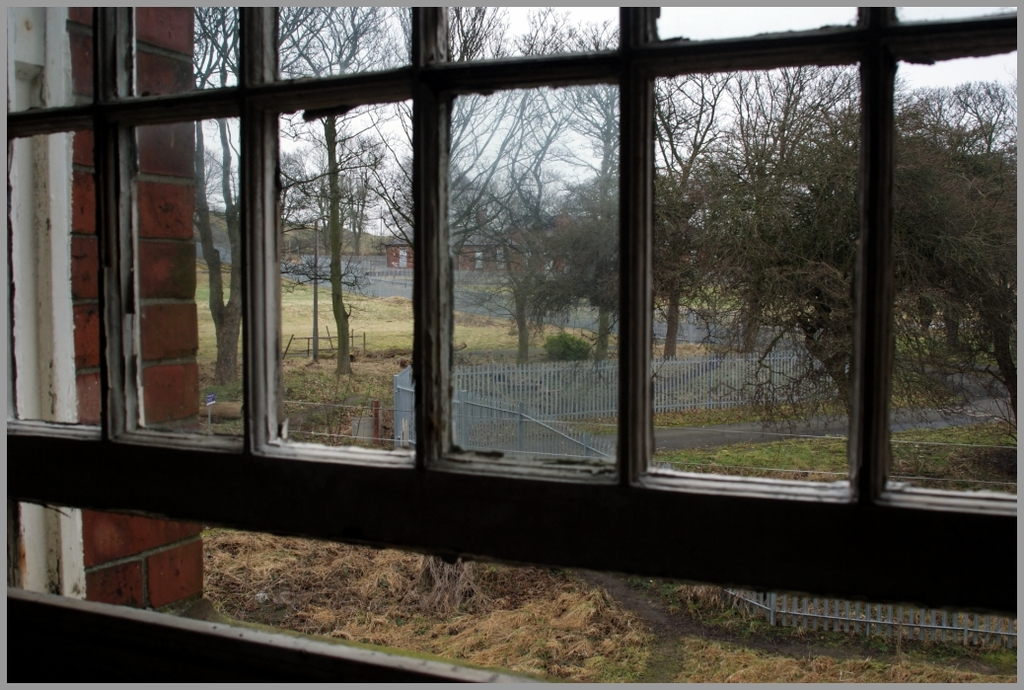Tree: (192, 5, 1017, 443)
